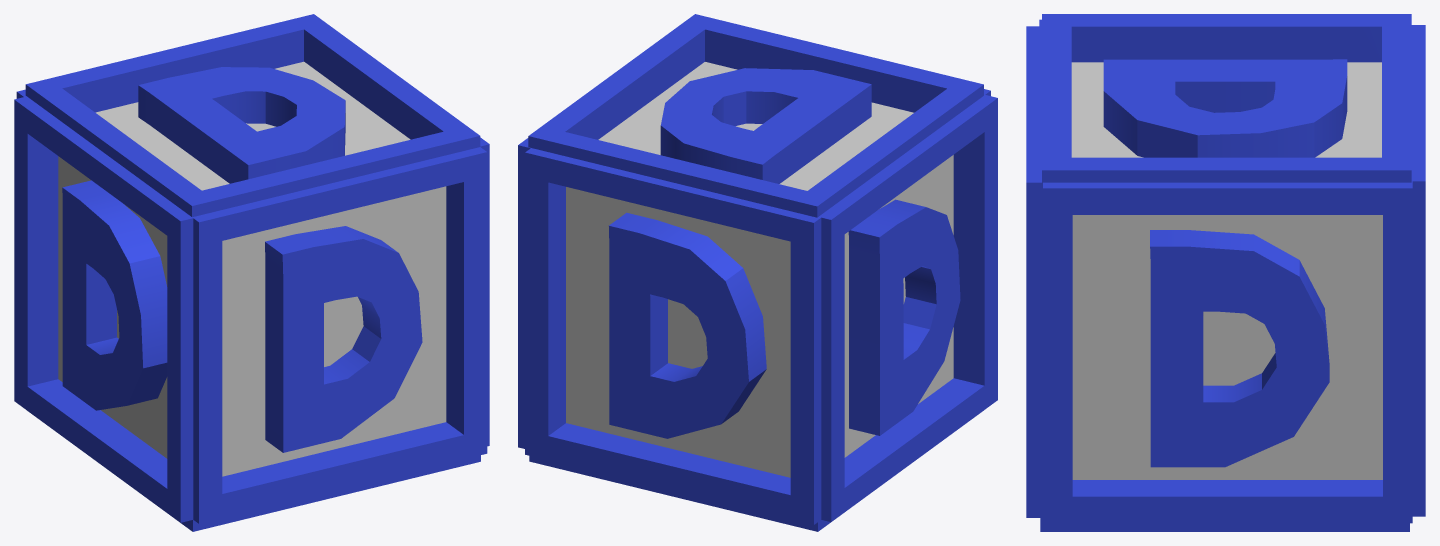
File: D_Block.fbx
The picture shows the model from 3 angles, left to right: view 1: azimuth 30°, elevation 25°; view 2: azimuth 150°, elevation 25°; view 3: azimuth 270°, elevation 25°; orthographic projection. The views are drawn at different scales.
Parts seen in each view (by area): view 1: pCube75, pCube75.001; view 2: pCube75, pCube75.001; view 3: pCube75, pCube75.001.
Part boxes in pixels (x1=…): pCube75: x1=14, y1=14, x2=489, y2=531; pCube75.001: x1=58, y1=61, x2=446, y2=476; pCube75: x1=518, y1=14, x2=997, y2=531; pCube75.001: x1=566, y1=62, x2=953, y2=477; pCube75: x1=1026, y1=14, x2=1425, y2=531; pCube75.001: x1=1071, y1=62, x2=1382, y2=479.
Bounding box in the file's own units: 53.94 × 53.94 × 53.94.
